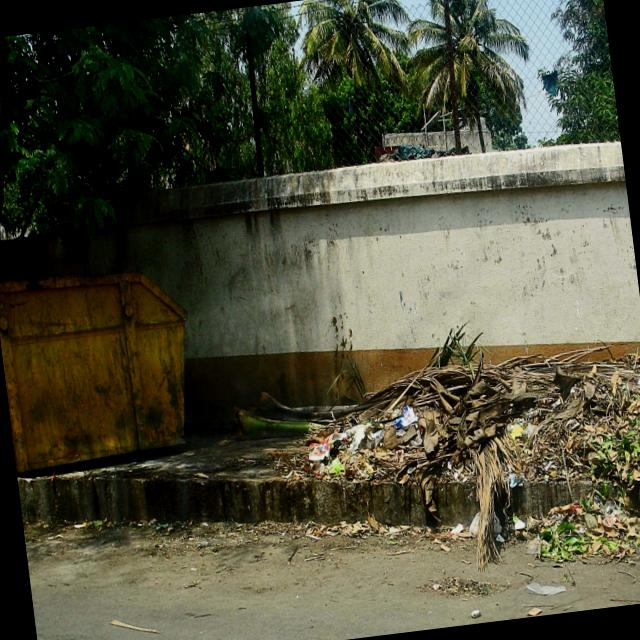garbage: (221, 312, 640, 558)
